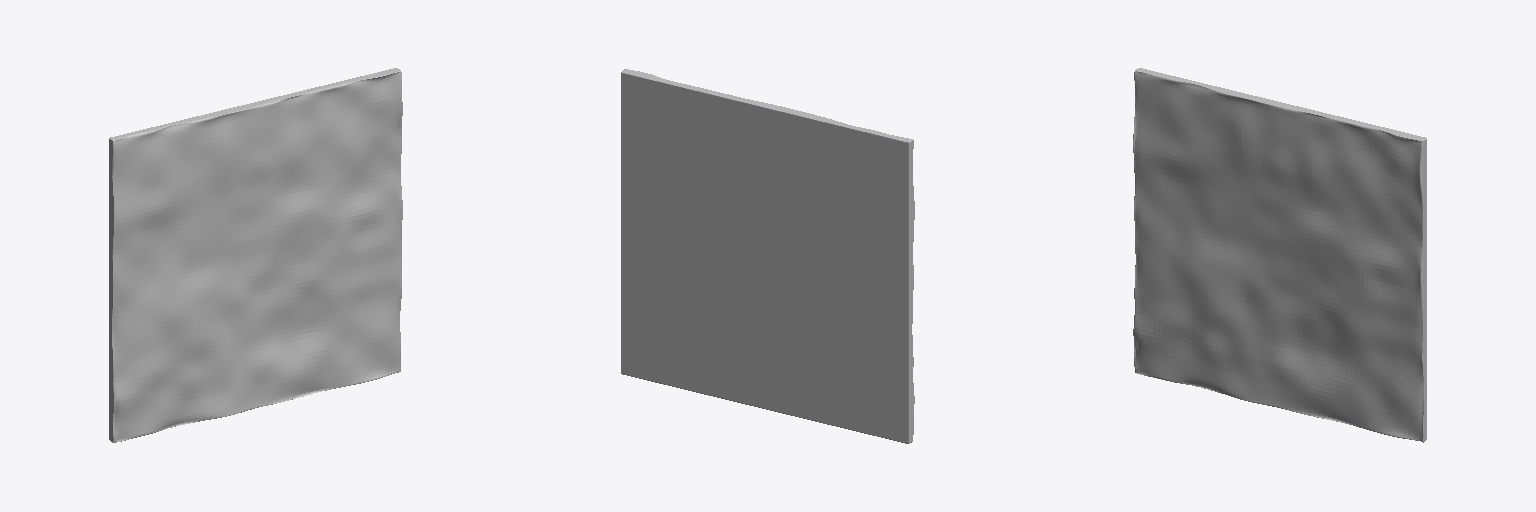
Rendered from chao.obj.
The picture shows the model from 3 angles: view 1: azimuth 30°, elevation 25°; view 2: azimuth 150°, elevation 25°; view 3: azimuth 330°, elevation 25°; orthographic projection.
Visible parts, largest first — view 1: 10450_Rectangular_Grass_Patch_v1; view 2: 10450_Rectangular_Grass_Patch_v1; view 3: 10450_Rectangular_Grass_Patch_v1.
Boxes of the visible parts, <box> form: 10450_Rectangular_Grass_Patch_v1: <box>109,68,402,442</box>; 10450_Rectangular_Grass_Patch_v1: <box>621,69,914,443</box>; 10450_Rectangular_Grass_Patch_v1: <box>1133,68,1426,442</box>.
Size of the model in its own units: 300 by 300 by 11.78.